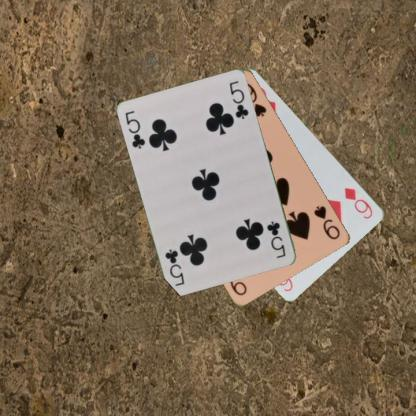5c: (123, 108, 147, 150), (265, 218, 287, 260)
6d: (342, 185, 374, 220)
9s: (312, 203, 342, 241)
